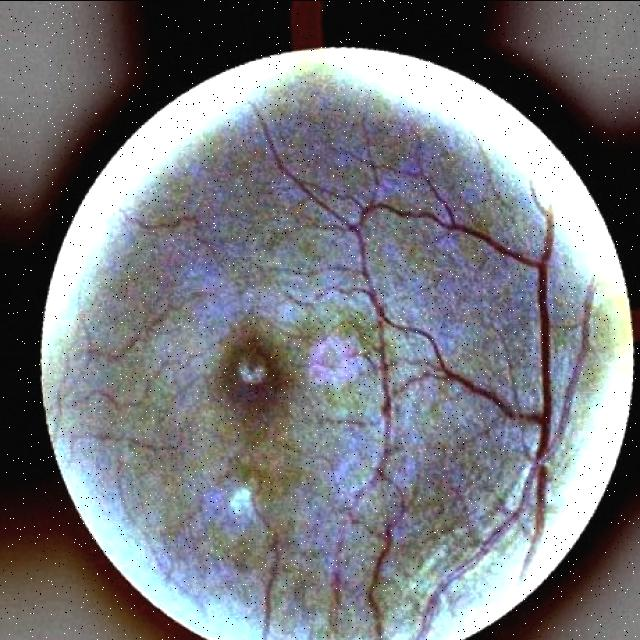Macula: (214, 308, 305, 418)
Nerves: (314, 171, 560, 548), (315, 236, 405, 640)
